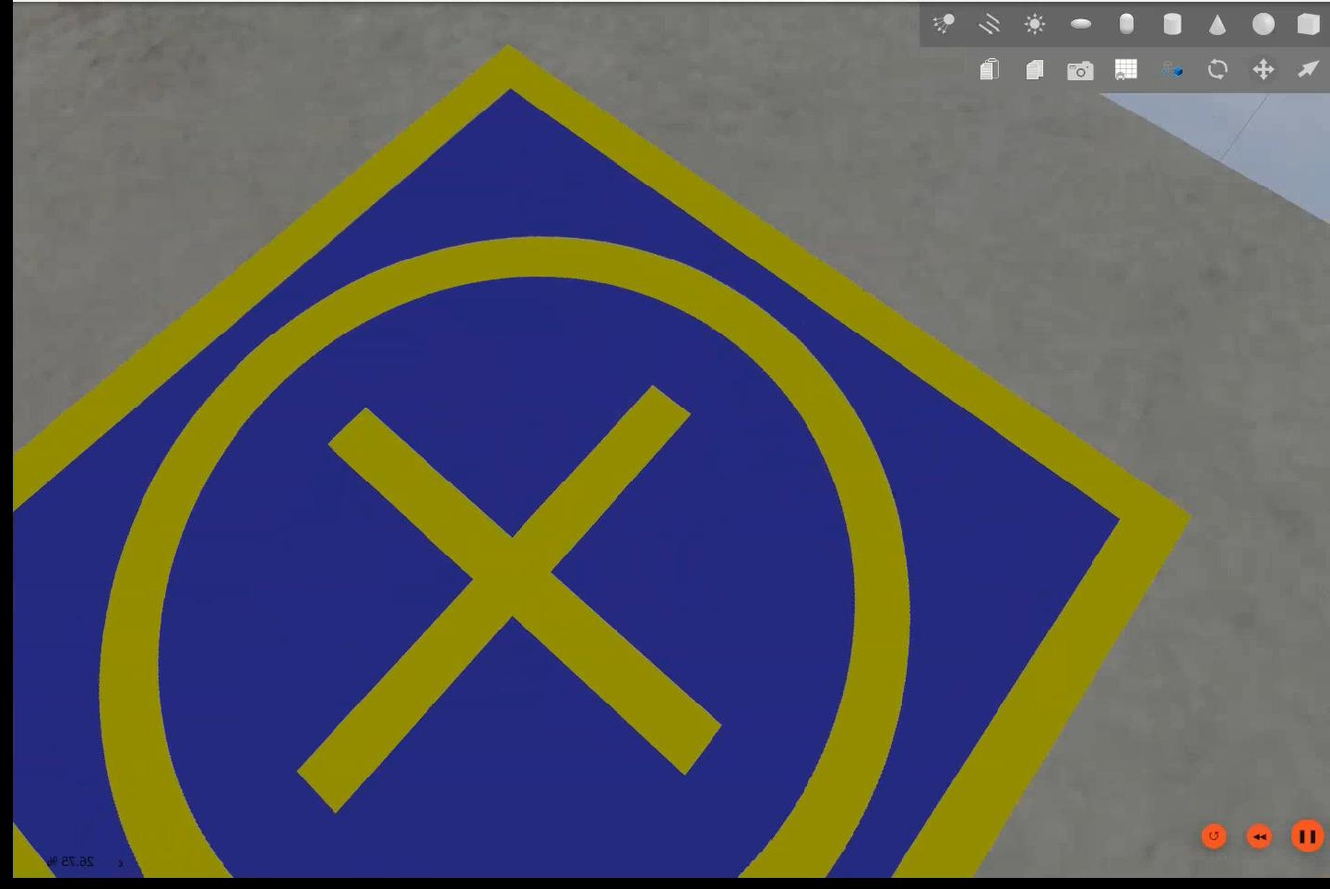small_base: (7, 44, 1184, 875)
